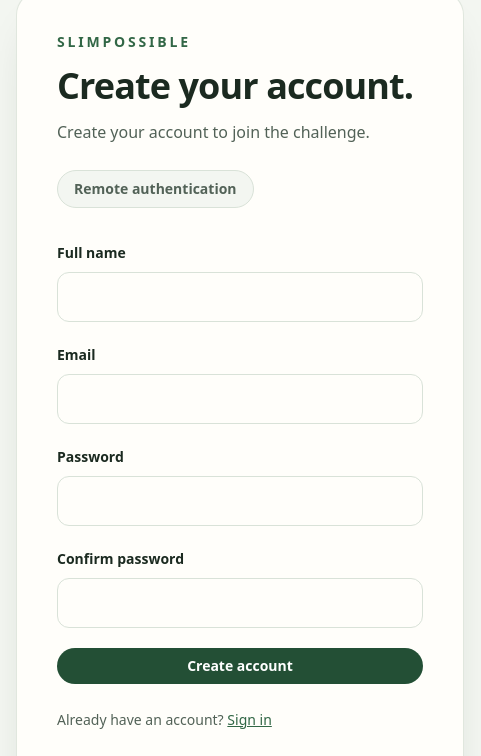
Test case: RegisterPage › validates fields and password confirmation accessibly
The image size is (481, 756).
Submit the form named "Registration form", box [57,240,423,684]
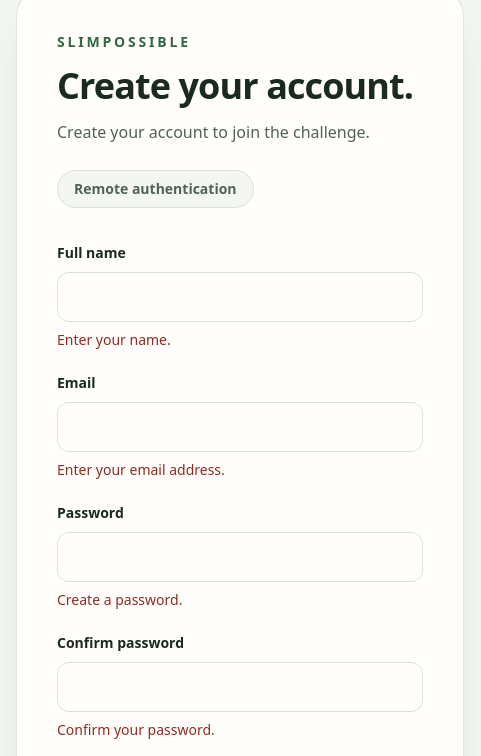
Expected: the text "Enter your name." is shown, [57,330,171,349]
Expected: the text "Enter your email address." is shown, [57,460,225,479]
Expected: the text "Create a password." is shown, [57,590,182,609]
Type "Participant" into the field labelled "Full name". click: (240, 297)
box: [57,272,423,322]
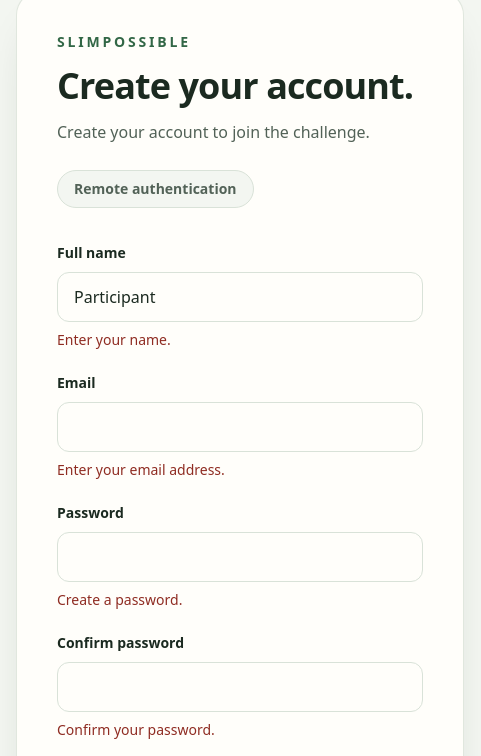
Type "person@example.com" into the field labelled "Email". click: (240, 427)
box: [57,402,423,452]
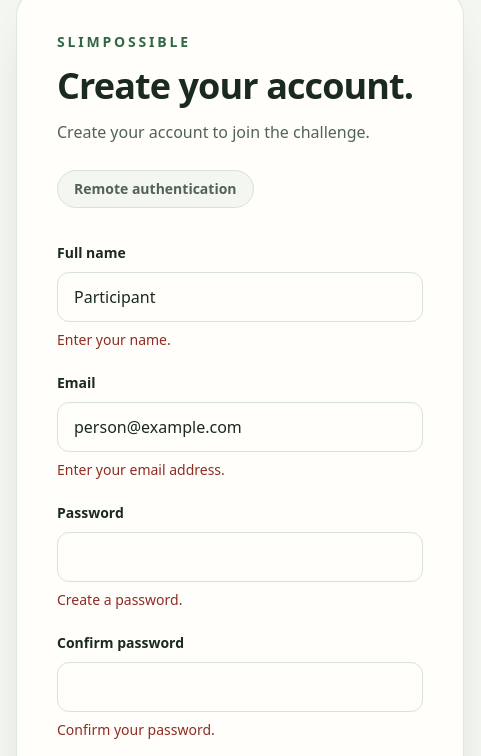
Type "password123" into the password field labelled "Password". click: (240, 557)
box: [57,532,423,582]
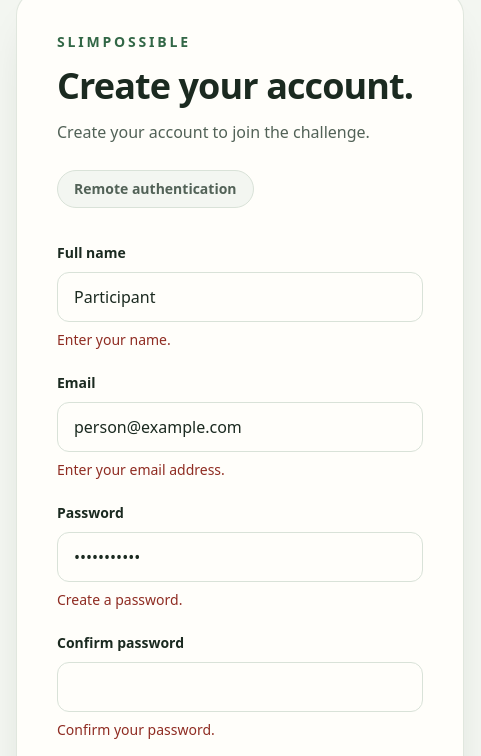
Type "password321" into the password field labelled "Confirm password". click: (240, 687)
box: [57,662,423,712]
(page scrolled)
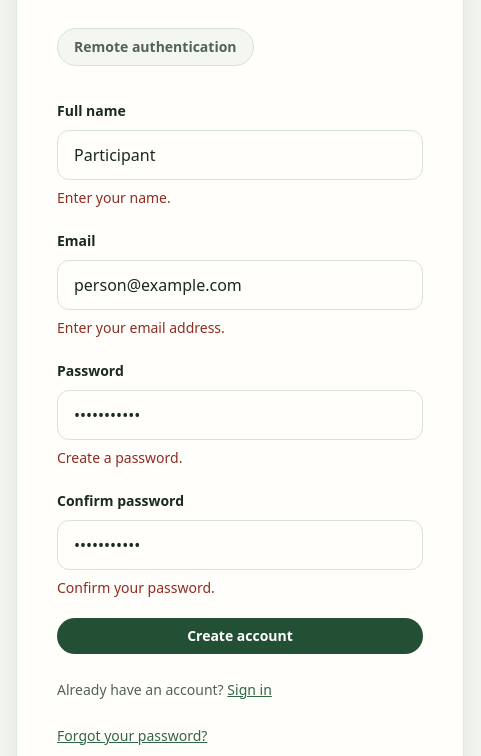
Submit the form named "Registration form", box [57,98,423,654]
(page scrolled)
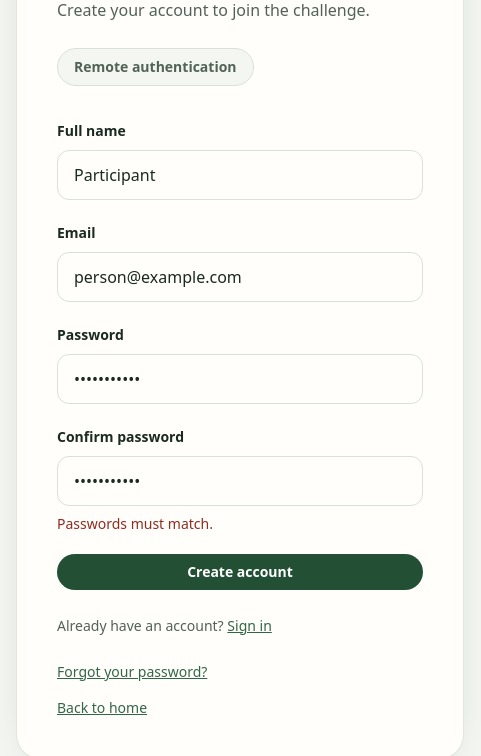
Expected: the text "Passwords must match." is shown, [57,514,213,533]
